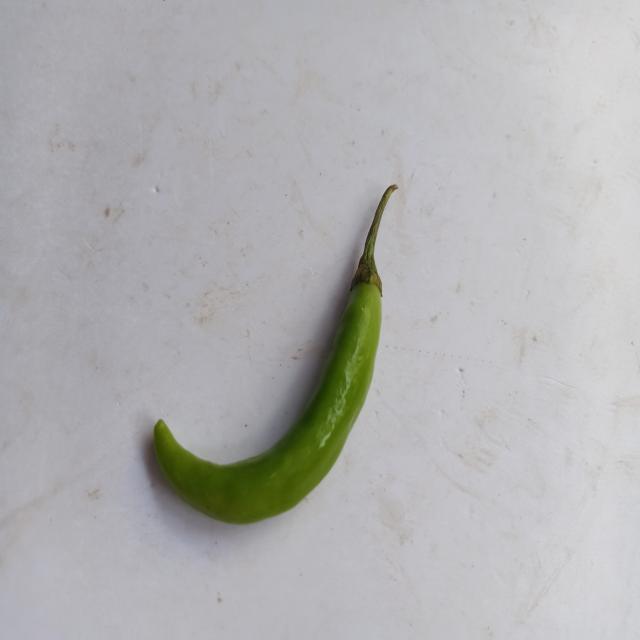Green Chilly: (153, 184, 398, 524)
